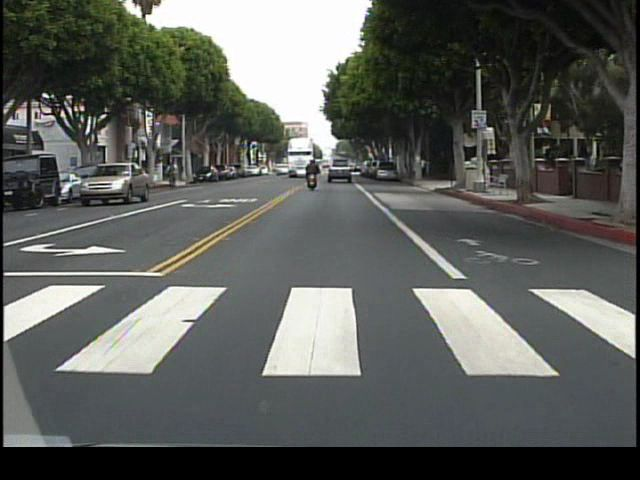car: (80, 158, 153, 207), (327, 159, 353, 182), (191, 164, 216, 182), (375, 162, 400, 180)
striscie pedonali: (1, 274, 640, 422)
